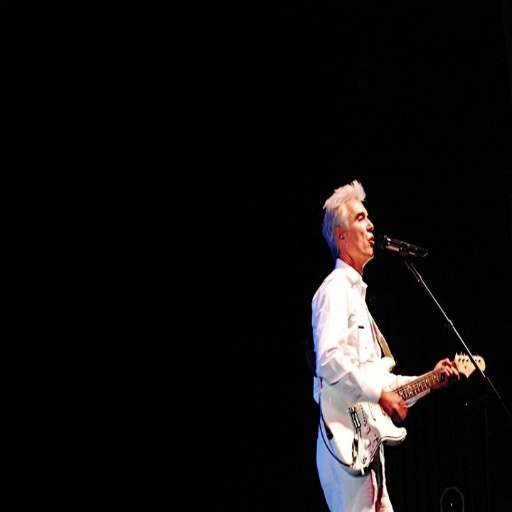hand: (382, 390, 408, 423), (433, 357, 459, 387)
